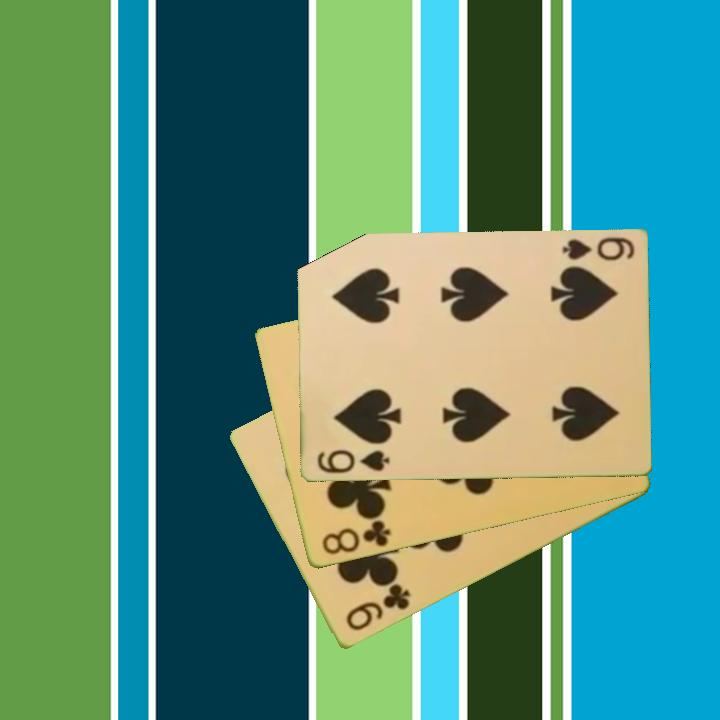6s: (313, 447, 392, 477), (558, 234, 637, 264)
8c: (318, 517, 394, 558)
9c: (342, 580, 414, 635)
